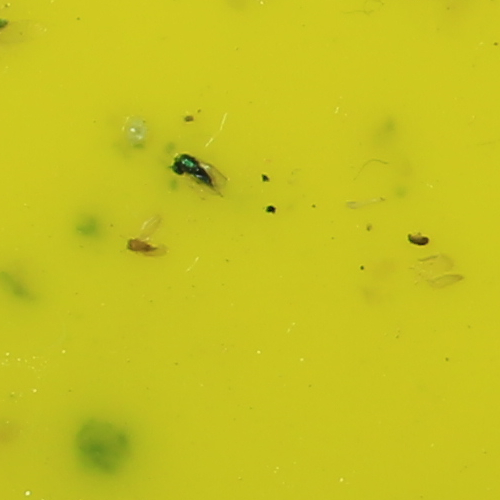Platyobria: (124, 234, 161, 252)
Psyllaephagus: (171, 151, 214, 189)
